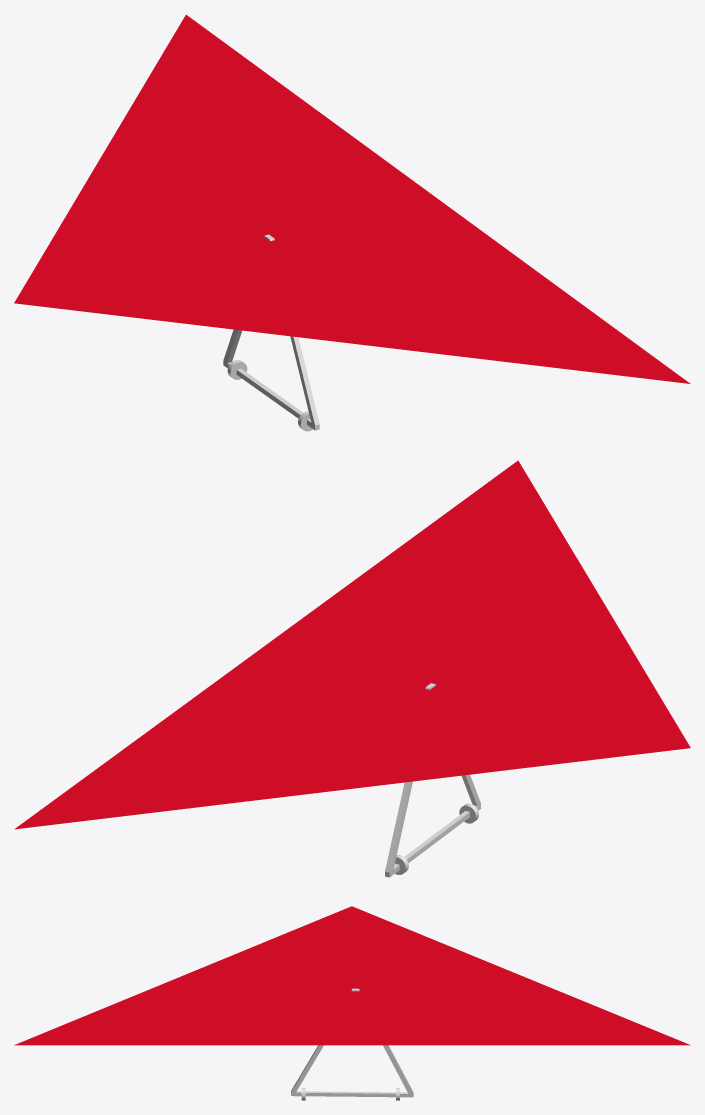
Rendered from Glider.fbx.
The picture shows the model from 3 angles, top to bottom: view 1: azimuth 30°, elevation 25°; view 2: azimuth 150°, elevation 25°; view 3: azimuth 270°, elevation 25°; orthographic projection. The views are drawn at different scales.
Parts seen in each view (by area): view 1: Cube.002, Cube.001; view 2: Cube.002, Cube.001; view 3: Cube.002, Cube.001.
Part boxes in pixels (x1,y1,x2,y2): Cube.002: (14,14,690,383); Cube.001: (223,234,319,430); Cube.002: (14,460,690,829); Cube.001: (385,683,481,877); Cube.002: (14,906,690,1045); Cube.001: (291,988,413,1097).
Bounding box in the file's own units: 707 × 263 × 1455.
